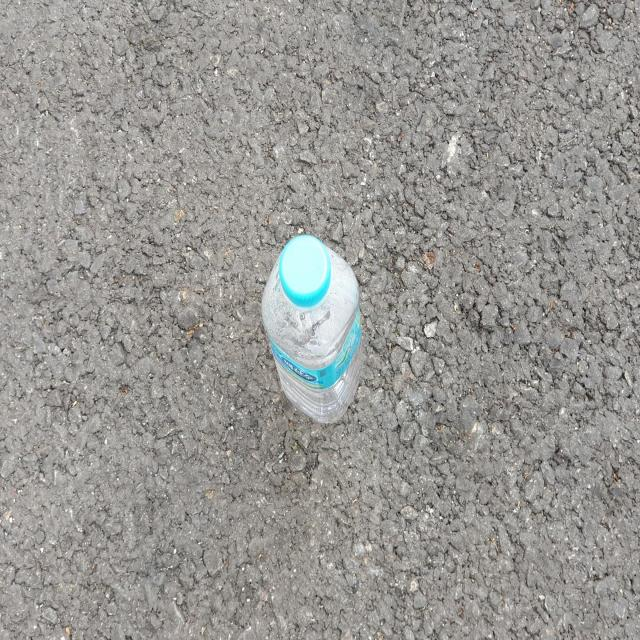plastic: (262, 234, 363, 424)
